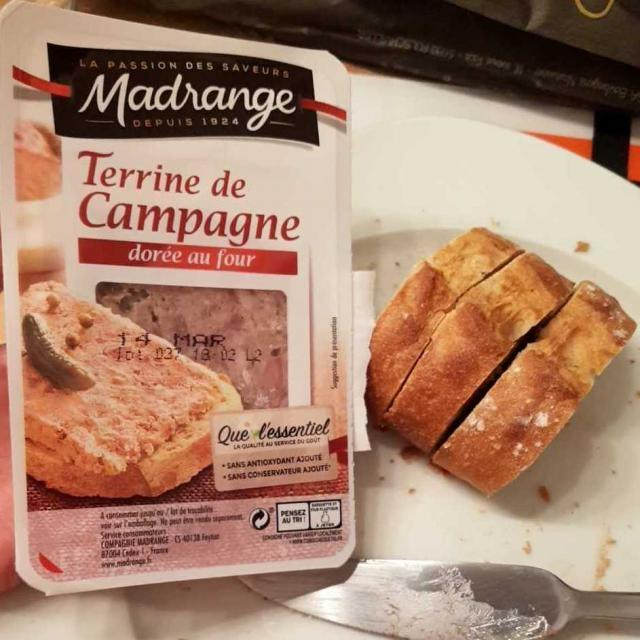bread: (371, 229, 635, 501)
